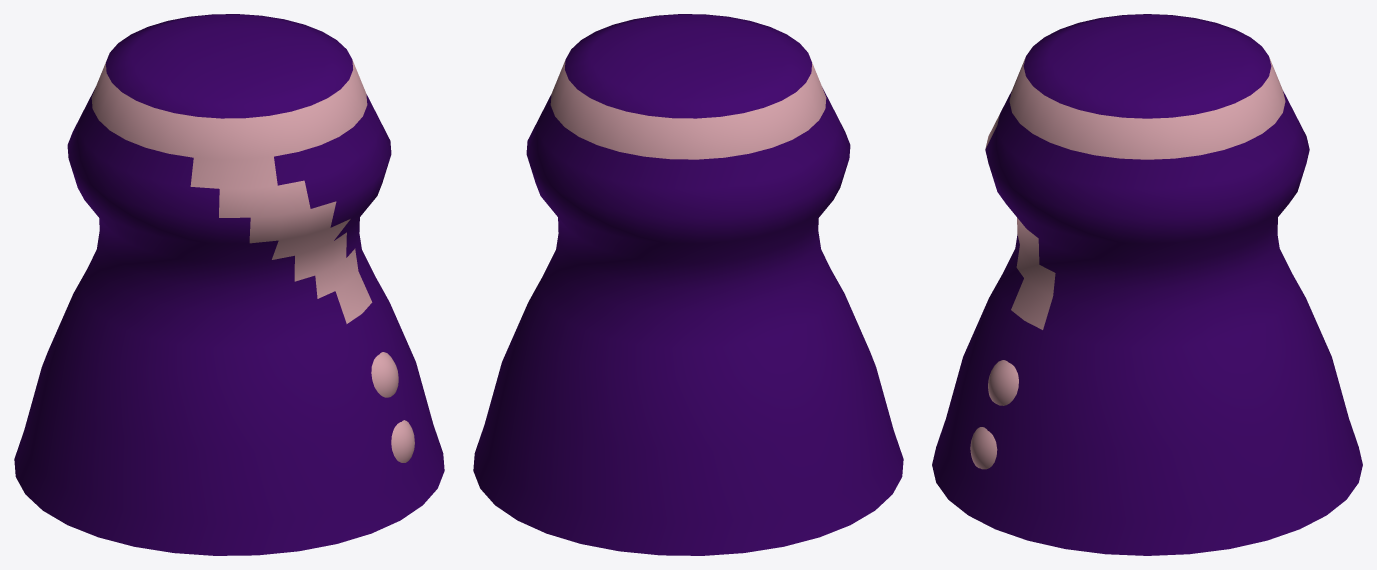
Rendered from body.gltf.
The picture shows the model from 3 angles, left to right: view 1: azimuth 30°, elevation 25°; view 2: azimuth 150°, elevation 25°; view 3: azimuth 270°, elevation 25°; orthographic projection.
Visible parts, largest first — view 1: Sphere.059, Sphere.053, Sphere.055; view 2: Sphere.059; view 3: Sphere.059, Sphere.053, Sphere.055.
Part boxes in pixels (left/top/right/bottom): Sphere.059: left=14, top=14, right=444, bottom=555; Sphere.053: left=371, top=352, right=398, bottom=397; Sphere.055: left=391, top=420, right=414, bottom=462; Sphere.059: left=473, top=14, right=903, bottom=555; Sphere.059: left=932, top=14, right=1362, bottom=555; Sphere.053: left=988, top=360, right=1018, bottom=405; Sphere.055: left=970, top=427, right=997, bottom=469.
Bounding box in the file's own units: 0.3694 × 0.3939 × 0.3694.
Materials: 2 (2 with a texture image).
